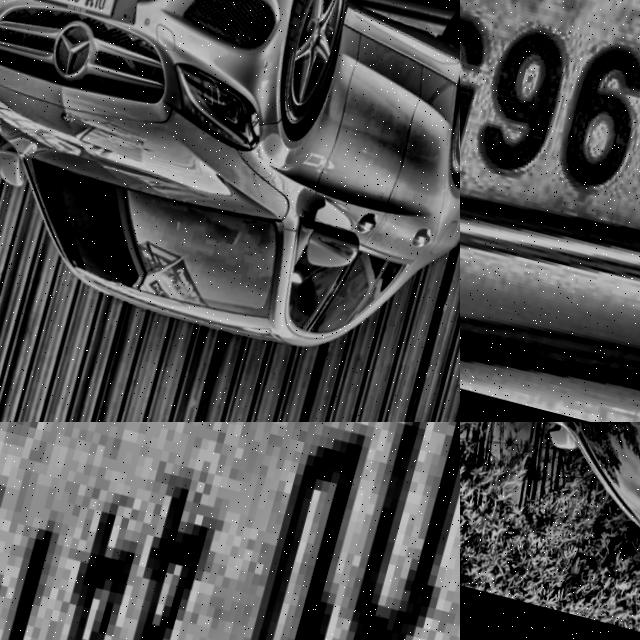license-plate: (0, 422, 460, 640), (460, 0, 640, 397), (40, 0, 125, 21)
